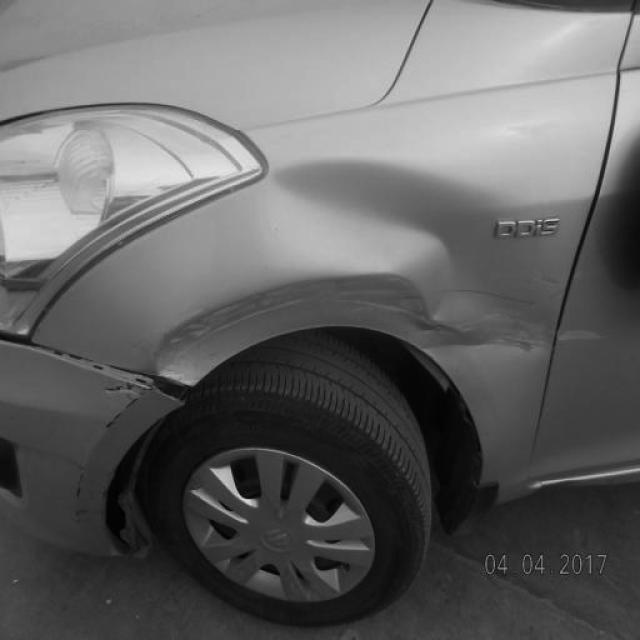car damage: (159, 276, 608, 381), (274, 162, 503, 322), (6, 335, 196, 405), (73, 458, 116, 540), (99, 387, 147, 436)
